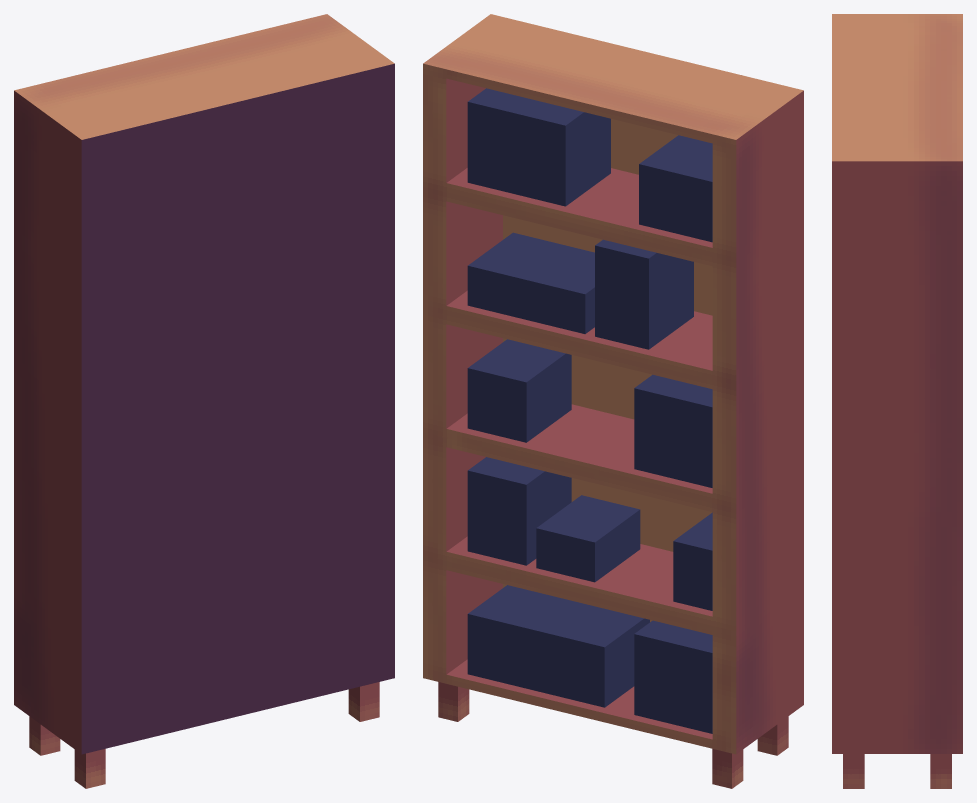
File: bookshelf.gltf
3 views of the same model, side by side, from view 1: azimuth 30°, elevation 25°; view 2: azimuth 150°, elevation 25°; view 3: azimuth 270°, elevation 25° (orthographic). The views are drawn at different scales.
Visible parts, largest first — view 1: Base, Legs; view 2: Base, Things, Legs; view 3: Base, Legs.
Part boxes in pixels (x1,y1,x2,y2): Base: (14,14,394,754); Legs: (29,682,379,788); Base: (423,14,803,754); Things: (467,88,712,733); Legs: (438,682,788,788); Base: (832,14,962,753); Legs: (843,754,951,788).
Size of the model in its own units: 1 by 2 by 0.375.
3 materials, 3 textured.
